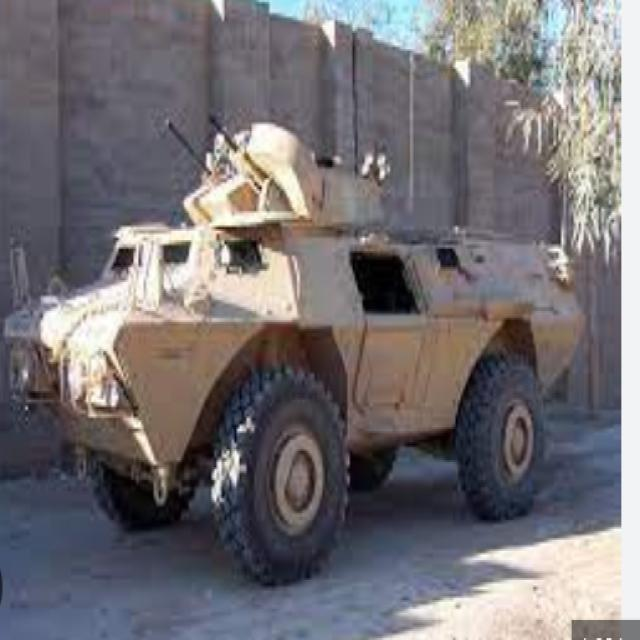MIL_APC: (9, 131, 603, 556)
